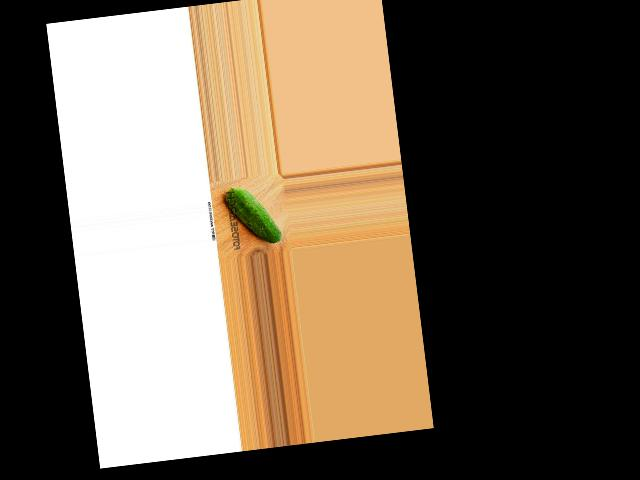cucumber: (223, 181, 282, 248)
